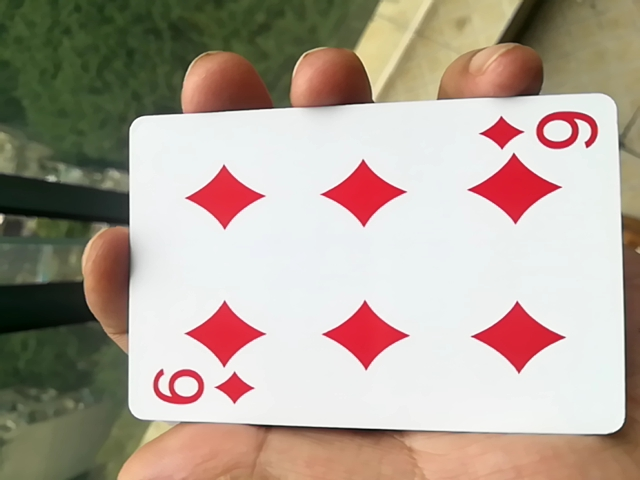fk 6: (113, 105, 622, 444)
